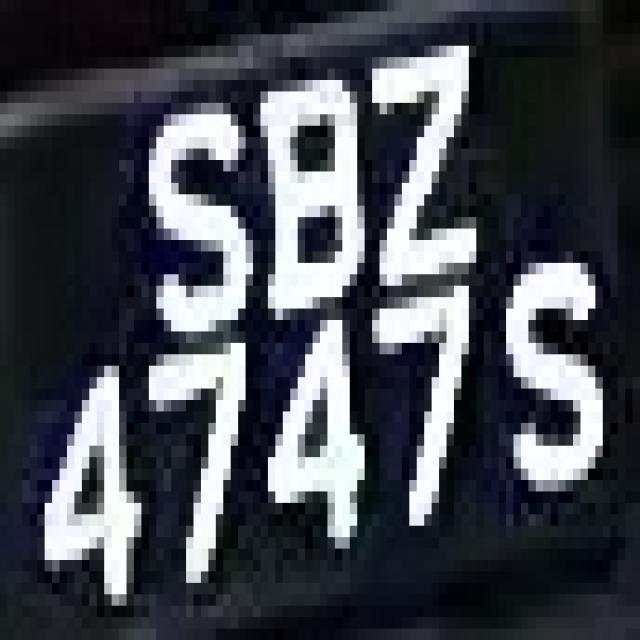4: (246, 263, 372, 594), (15, 308, 141, 606)
7: (127, 354, 253, 617), (357, 263, 469, 537)
B: (246, 46, 372, 331)
S: (484, 206, 603, 514), (127, 80, 260, 331)
Z: (342, 0, 506, 297)
